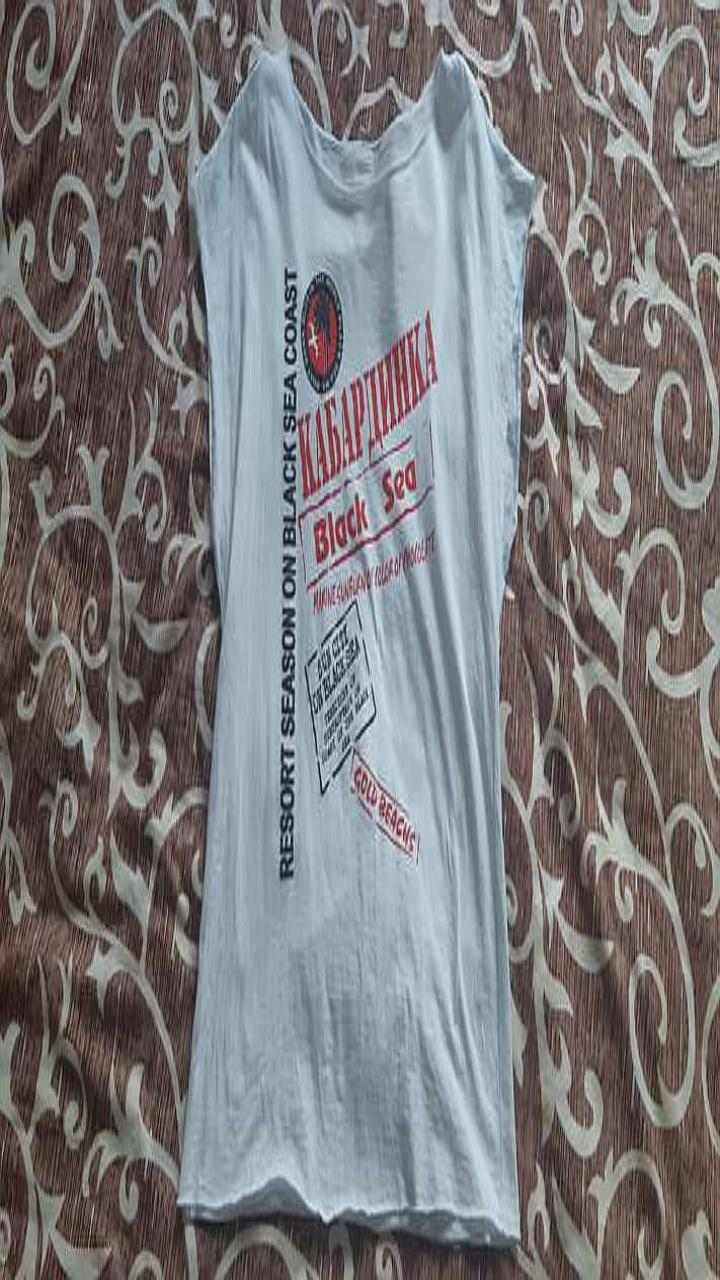T-Shirt: (178, 50, 533, 1243)
